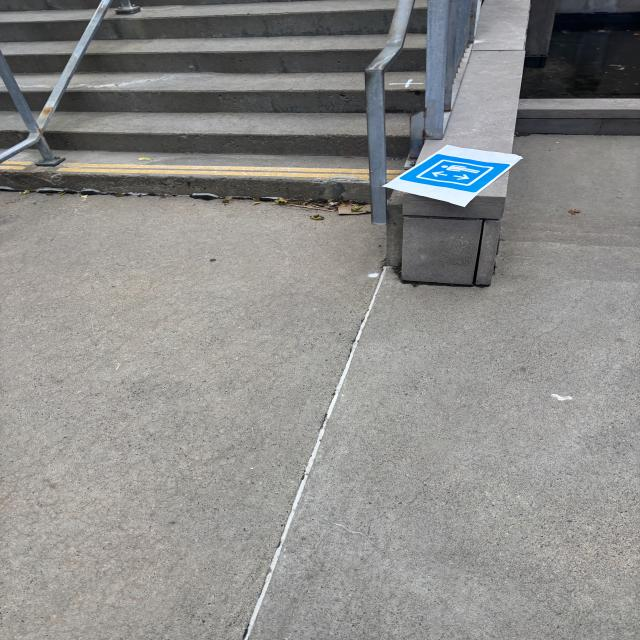elevator: (396, 155, 510, 193)
